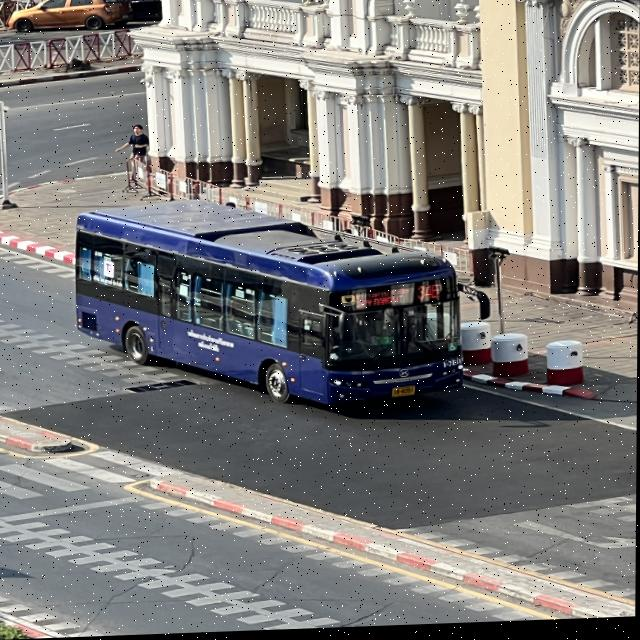Bus Line Number: (416, 283, 447, 307)
Bus Side Number: (439, 360, 467, 372)
Destination Sign: (352, 289, 411, 312)
TSB-Bus: (74, 201, 465, 413)
